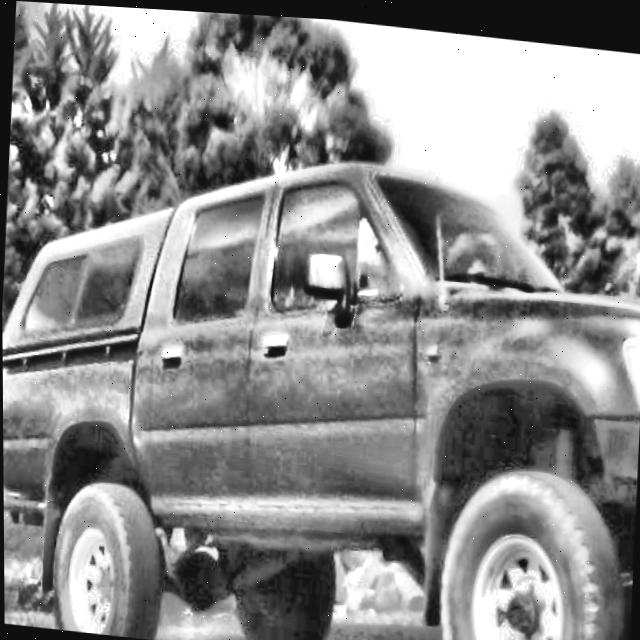light_vehicle: (1, 108, 640, 640)
